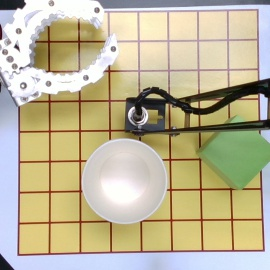cup: (81, 138, 169, 225)
